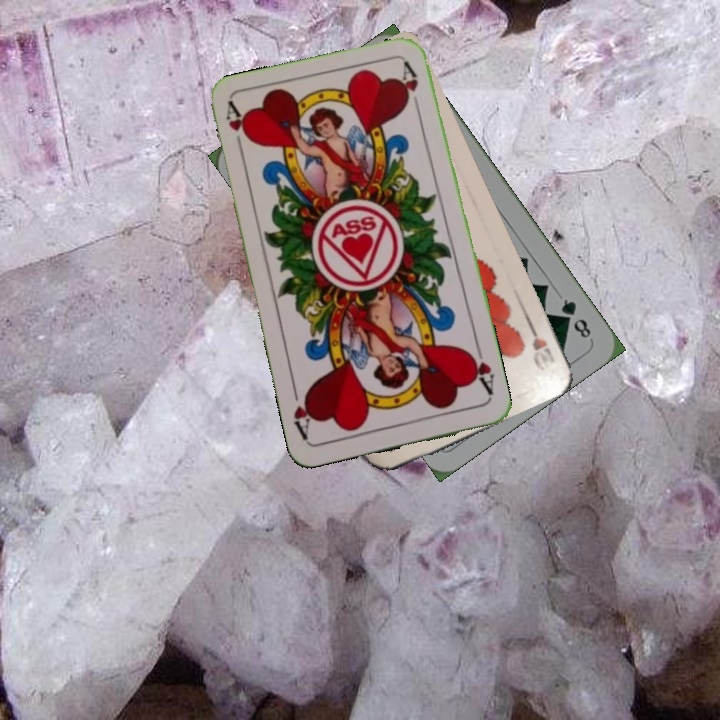G8: (556, 294, 595, 343)
H10: (523, 317, 558, 368)
HA: (463, 342, 497, 400), (222, 100, 253, 159)
